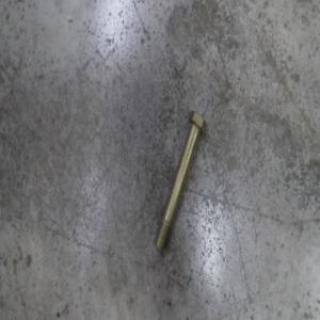Bolttrack_idkeyframe: (154, 109, 206, 253)
